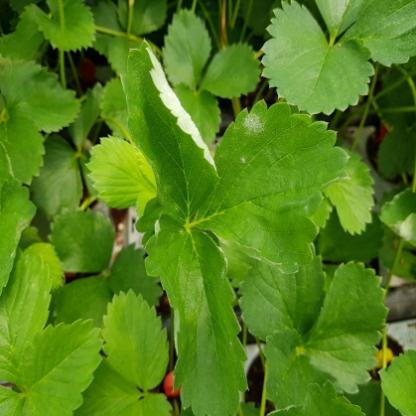Strawberry_Powdery_Mildew_Leaf: (188, 99, 351, 276), (144, 211, 250, 415), (119, 38, 220, 224), (376, 188, 415, 246)
